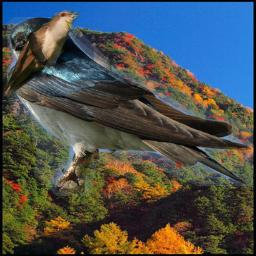Cuckoo: (1, 10, 79, 102)
Swallow: (7, 17, 253, 196)
